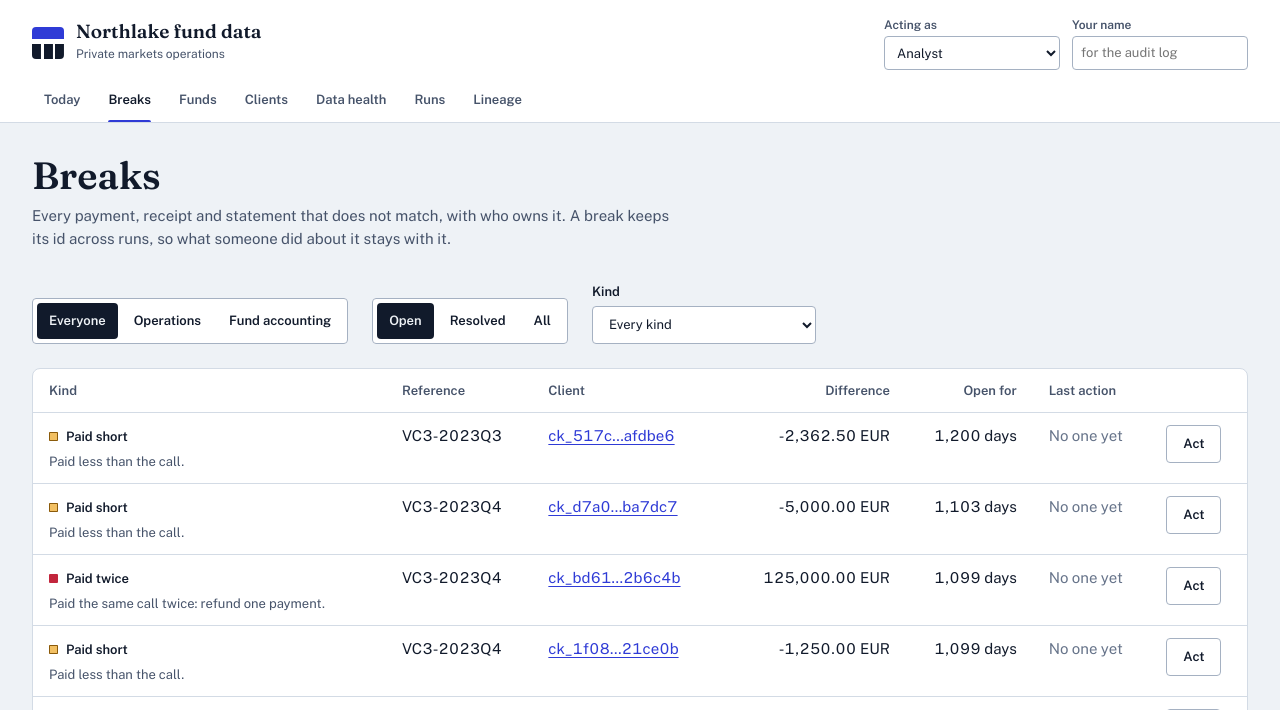
Scenario: breaks › lets an analyst read a break but not act on it
Click the button with aria-label "Act on": (1194, 444) [1166,425,1222,463]
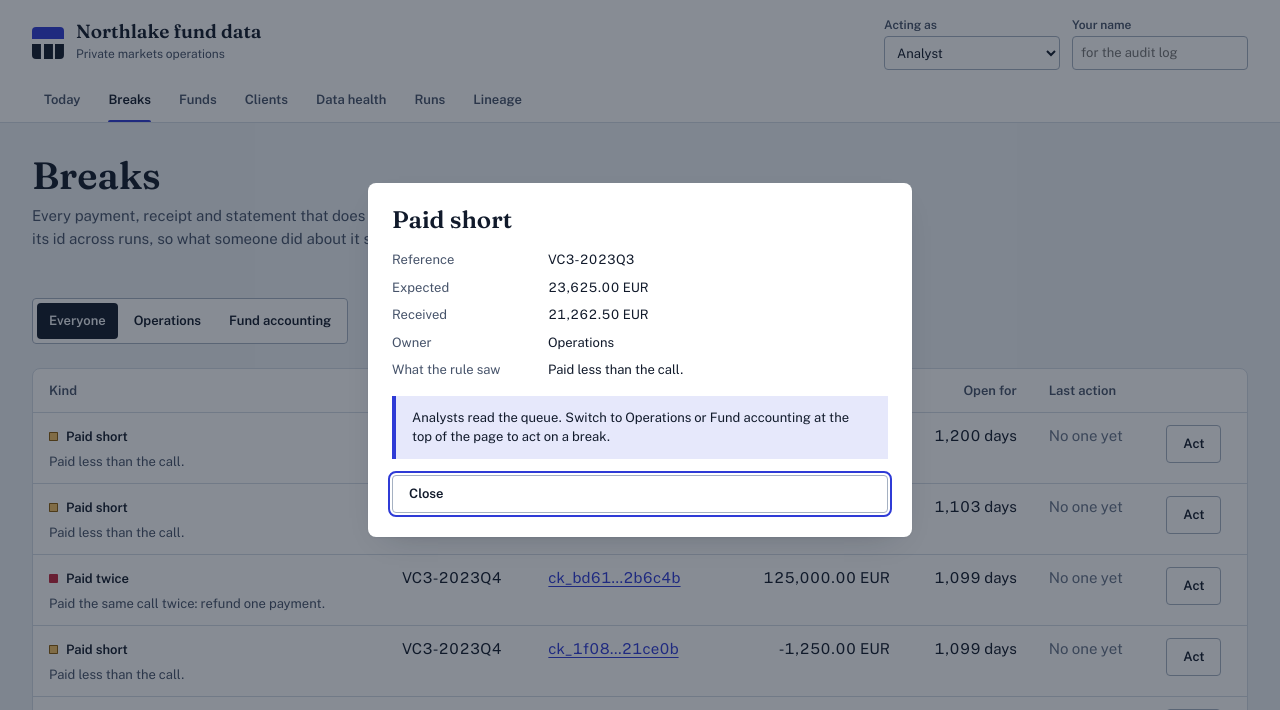
expect the text "Analysts read the queue" is shown: met, box [412,410,849,444]
